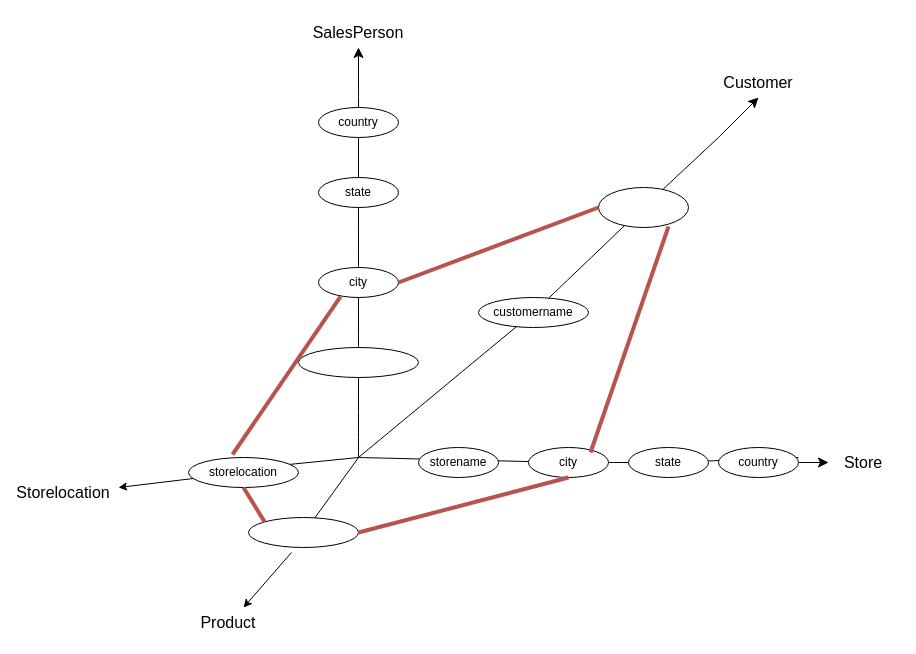
Image size: 916x654. Some labels were removed from this diagram. The box of each missing label's shape, as (x1, y1, x2, y2) in pixels:
gender: (598, 186, 688, 228)
productname: (248, 516, 358, 548)
salespersonname: (298, 346, 418, 378)
